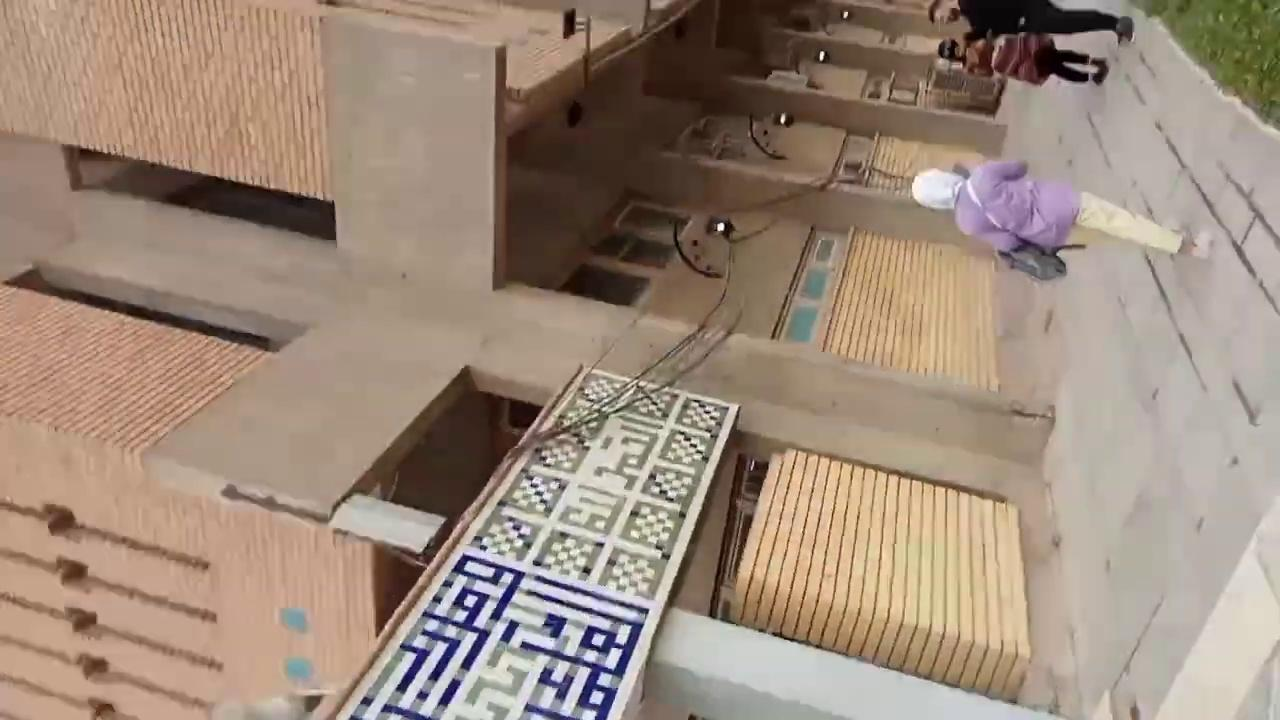person: (910, 158, 1211, 279), (928, 0, 1135, 85)
